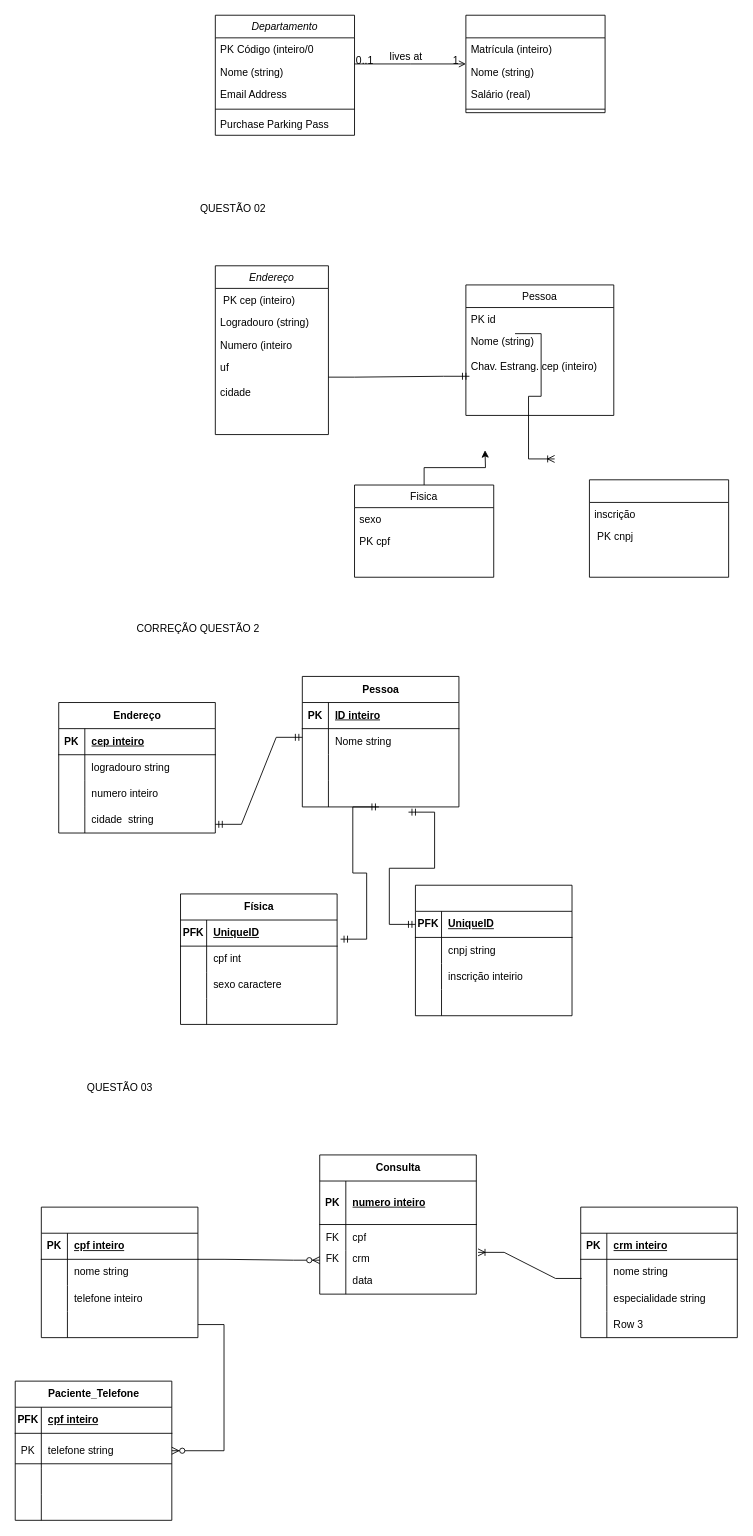
The diagram is 753 pixels wide and 1536 high, and some of its shapes have lost their labels. The shapes that lost their labels are listed below. From the top down, each one's box as (x1, y1, x2, y2) in pixels, then its label:
(465, 14, 605, 113): Funcionário
(589, 479, 729, 577): Juridica
(415, 884, 572, 1016): Table
(40, 1206, 198, 1338): Paciente
(580, 1206, 737, 1338): Médico
